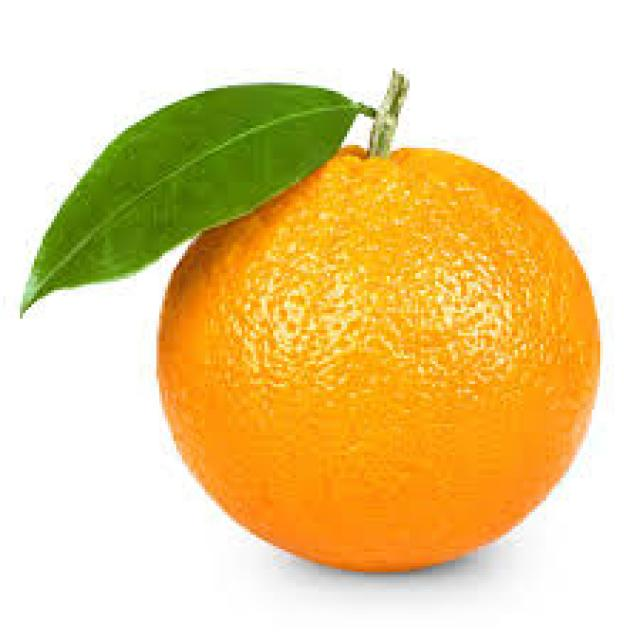orange: (158, 144, 603, 574)
